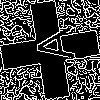A: (25, 25, 76, 66)
